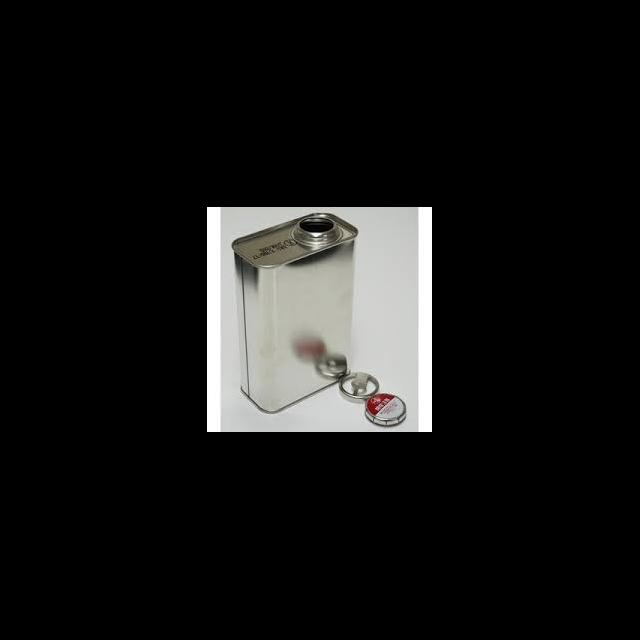metal: (230, 212, 358, 414), (366, 392, 406, 426), (340, 372, 380, 402)
